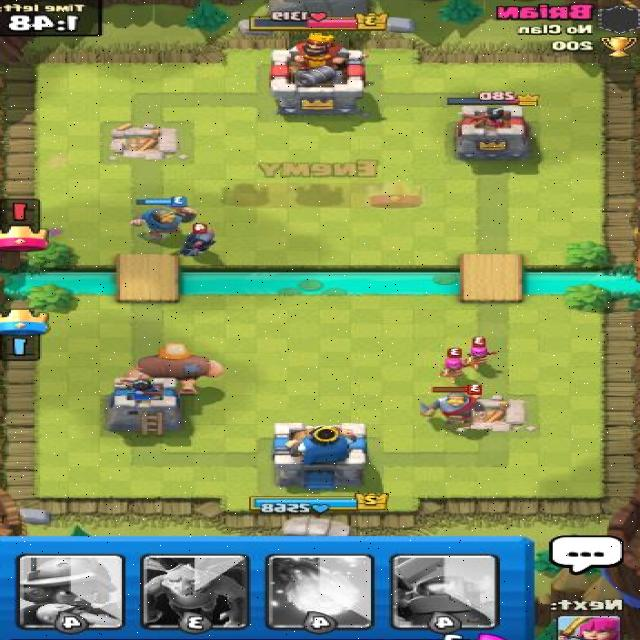Enemy-Archer: (434, 347, 472, 385), (462, 334, 496, 370)
Enemy-Knight: (413, 383, 489, 430)
Enemy-MiniPEKKA: (175, 221, 218, 258)
Player-Giant: (125, 340, 228, 398)
Player-Knight: (125, 195, 202, 243)
